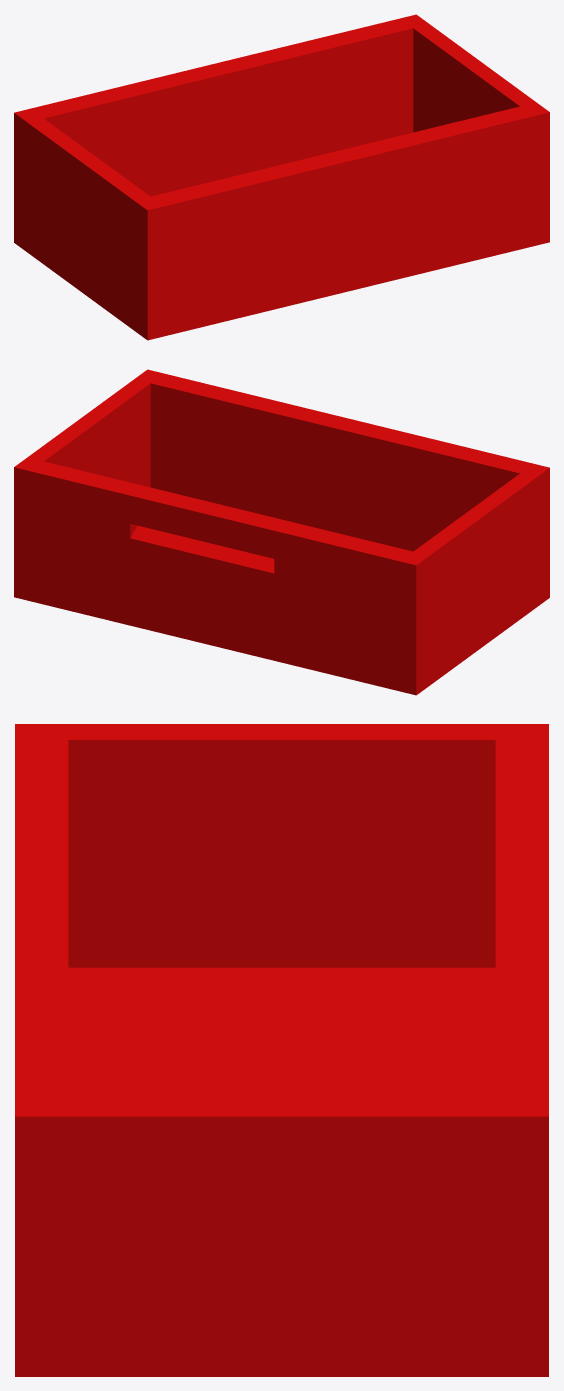
File: AntagPCDesk_DrawerB.fbx
3 views of the same model, one above another, from view 1: azimuth 30°, elevation 25°; view 2: azimuth 150°, elevation 25°; view 3: azimuth 270°, elevation 25° (orthographic). The views are drawn at different scales.
Visible parts, largest first — view 1: AntagPCDesk_DrawerB; view 2: AntagPCDesk_DrawerB; view 3: AntagPCDesk_DrawerB.
Part boxes in pixels (x1,y1,x2,y2): AntagPCDesk_DrawerB: (14,14,549,340); AntagPCDesk_DrawerB: (14,369,549,695); AntagPCDesk_DrawerB: (15,724,548,1376).
Bounding box in the file's own units: 109 × 33.81 × 62.93.
